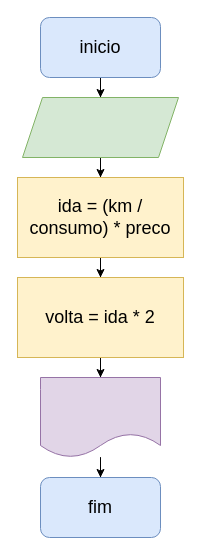
This 201x555 diagram has some shape labels left out. The centre of each missing label's shape, as x and y in pixels:
"ida, volta" goes at point 100,417.
"km, consumo, preco" goes at point 100,127.
